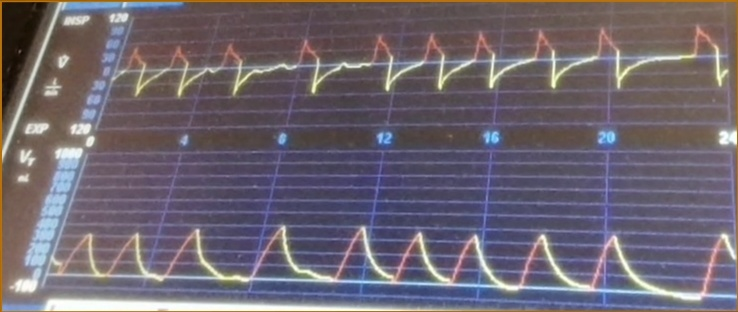Ineffective_effort Flow: (119, 21, 729, 108)
Ineffective_effort Volume: (52, 218, 734, 302)
